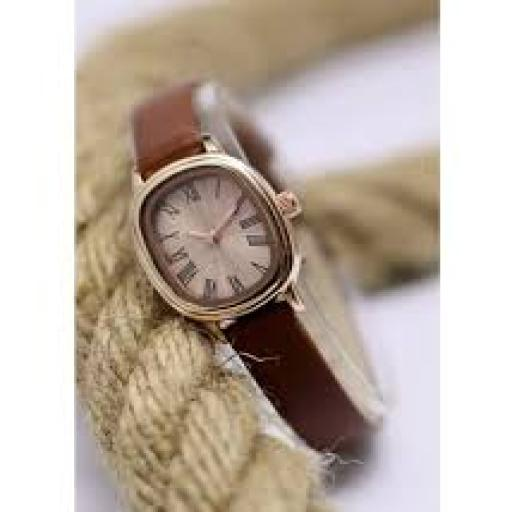KolSaati: (103, 78, 401, 457)
